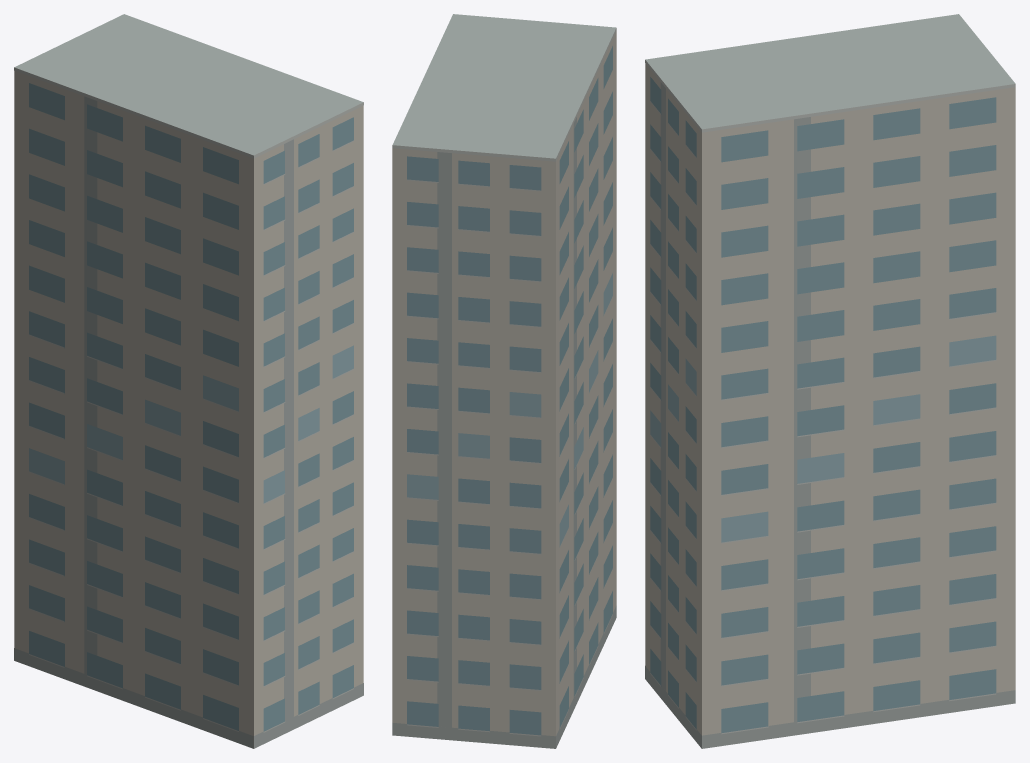
Rendered from residential-a7585eca-a080-4438-ad5c-7c3ea1f8dd88.glb.
3 renders of one model, left to right at view 1: azimuth 30°, elevation 25°; view 2: azimuth 150°, elevation 25°; view 3: azimuth 270°, elevation 25°, orthographic. The views are drawn at different scales.
Parts seen in each view (by area): view 1: residential-a7585eca-a080-4438-ad5c-7c3ea1f8dd88.tmp; view 2: residential-a7585eca-a080-4438-ad5c-7c3ea1f8dd88.tmp; view 3: residential-a7585eca-a080-4438-ad5c-7c3ea1f8dd88.tmp.
Part boxes in pixels (left/top/right/bottom): residential-a7585eca-a080-4438-ad5c-7c3ea1f8dd88.tmp: left=14, top=14, right=363, bottom=748; residential-a7585eca-a080-4438-ad5c-7c3ea1f8dd88.tmp: left=392, top=14, right=616, bottom=748; residential-a7585eca-a080-4438-ad5c-7c3ea1f8dd88.tmp: left=645, top=14, right=1015, bottom=748.
Size of the model in its own units: 18.39 by 46 by 24.95.
